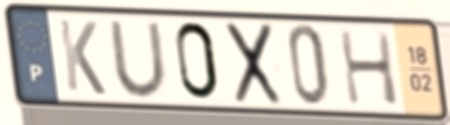0: (285, 22, 335, 110), (172, 19, 222, 104)
H: (335, 26, 402, 108)
K: (55, 16, 109, 98)
U: (105, 19, 172, 101)
X: (223, 20, 285, 108)
